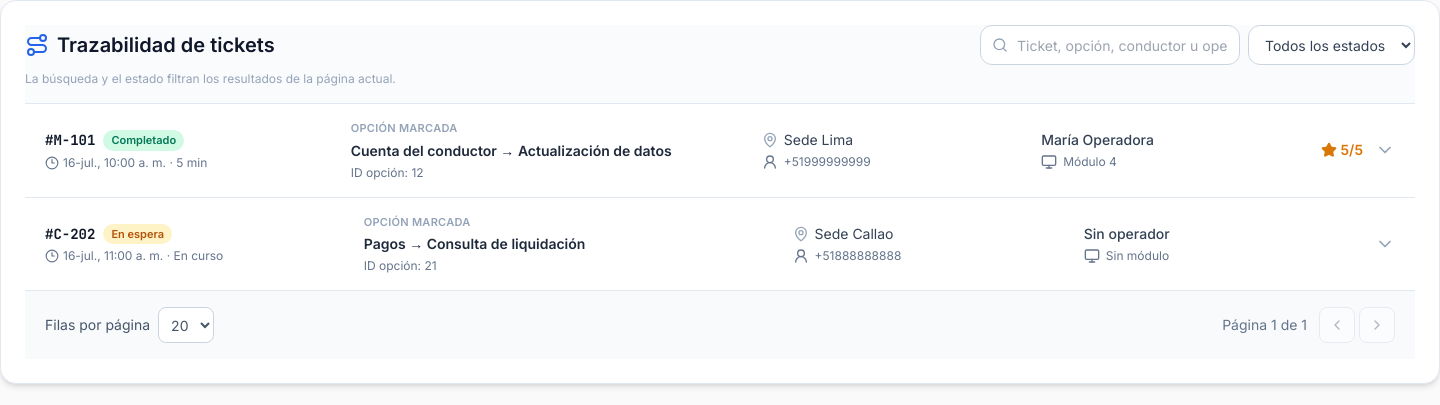
Scenario: TicketTraceabilityPanel › filtra por sede, opción o estado sin mezclar tickets
Type "Callao" into the field with placeholder "Ticket, opción, conductor u operador".
click(1110, 45); type("Callao")  # box [980,25,1240,65]
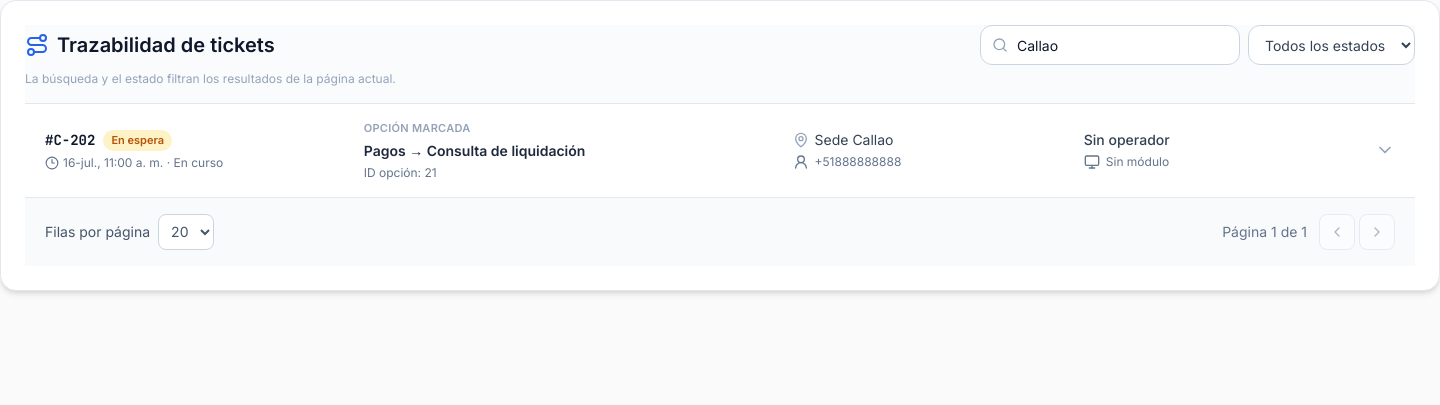
Expected: the text "#C-202" is shown, [45,130,95,150]
Now the button "#M-101" is gone
Select "Completado" in the dropdown named "Estado del ticket" at (1332, 45), box [1248,25,1415,65]
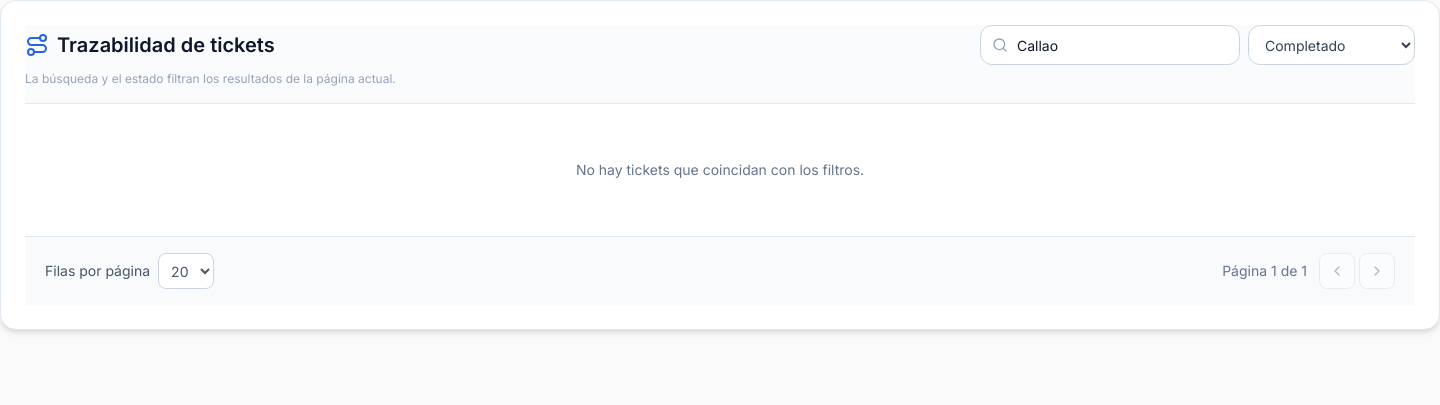
Now the text "No hay tickets que coincidan con los filtros." is shown, box [576,161,864,178]
